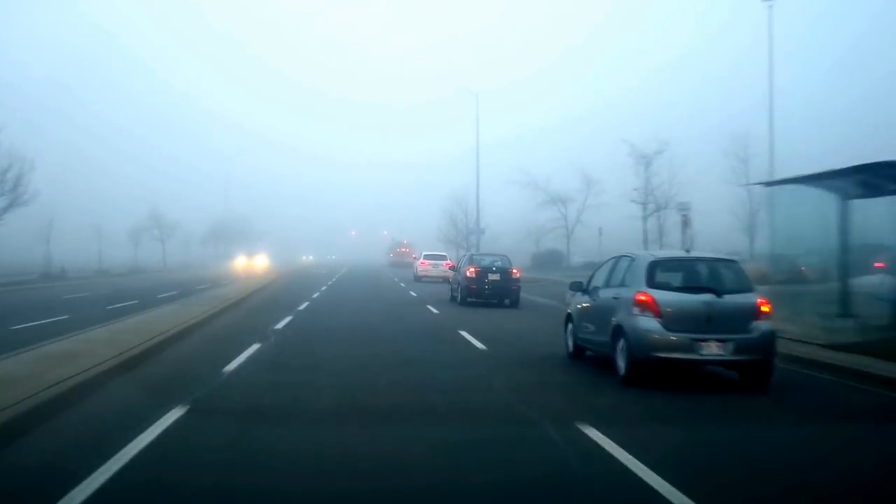car: (562, 248, 780, 385), (447, 251, 521, 307), (412, 249, 455, 283), (385, 241, 417, 268)
